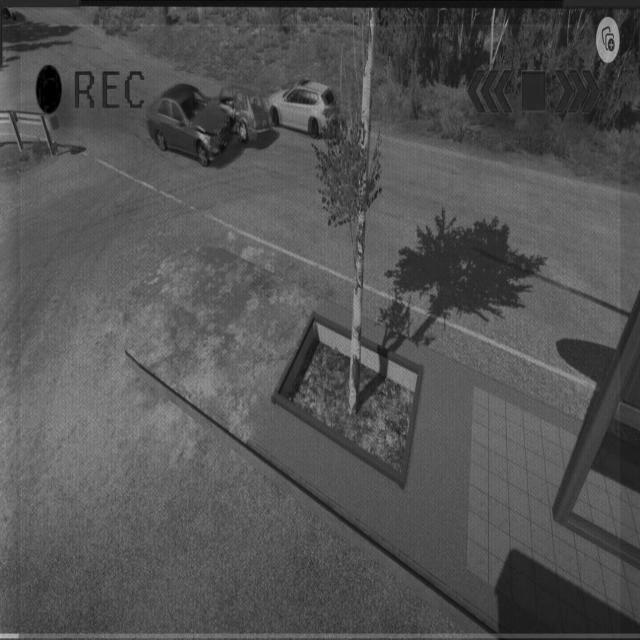accident: (146, 79, 273, 169)
vehicle: (268, 71, 340, 145)
